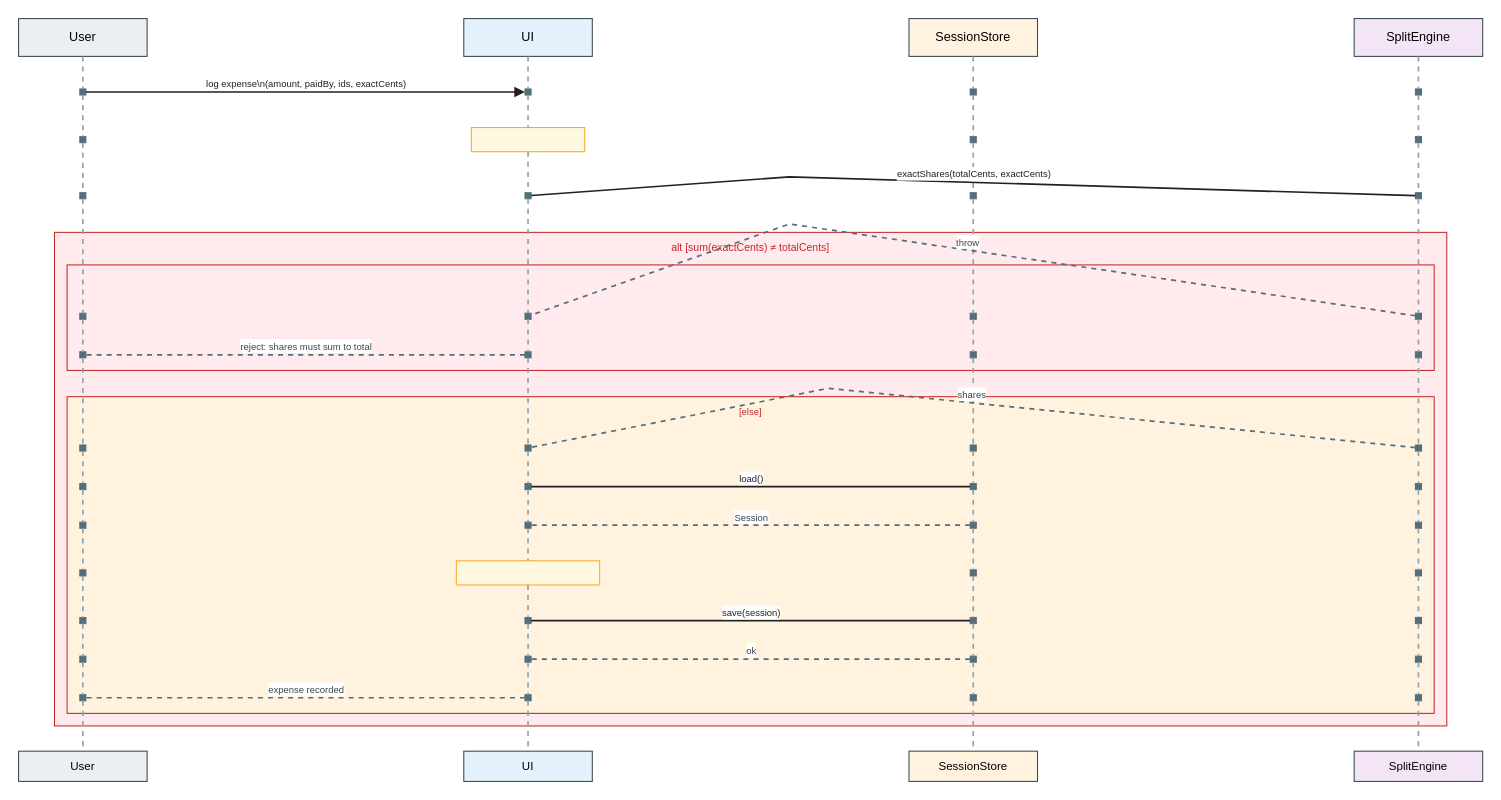
Image size: 1501x800. Some labels were removed from this diagram. Each missing label, with the centre of its shape:
"[sum(exactCents) ≠ totalCents]" goes at (750,317).
"append Expense{splitType: exact}" goes at (527,572).
"toCents(amount)" goes at (527,139).
